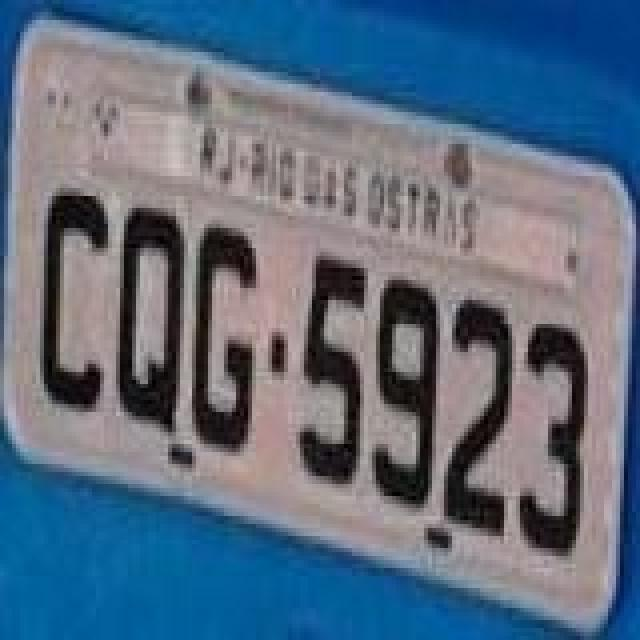2: (444, 294, 516, 538)
3: (516, 318, 588, 562)
5: (296, 254, 368, 490)
9: (372, 274, 444, 510)
C: (36, 188, 108, 412)
G: (190, 226, 258, 454)
Q: (116, 206, 188, 434)
